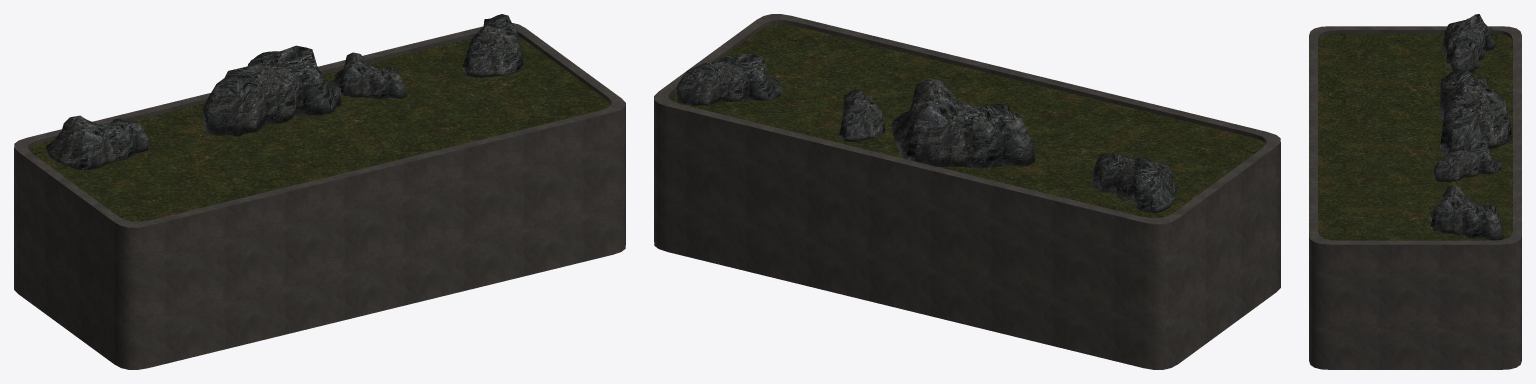
Rendered from Tank Field.FBX.
The picture shows the model from 3 angles, left to right: view 1: azimuth 30°, elevation 25°; view 2: azimuth 150°, elevation 25°; view 3: azimuth 270°, elevation 25°; orthographic projection. The views are drawn at different scales.
Parts seen in each view (by area): view 1: Object035, Object016, Mountain001, Mountain, Mountain003, Mountain002; view 2: Object035, Object016, Mountain001, Mountain003, Mountain, Mountain002; view 3: Object035, Object016, Mountain001, Mountain003, Mountain, Mountain002.
Part boxes in pixels (box(x1,y1,x2,y2)): Object035: box(14, 23, 625, 369); Object016: box(28, 36, 611, 221); Mountain001: box(202, 45, 341, 136); Mountain: box(46, 115, 148, 170); Mountain003: box(462, 14, 523, 77); Mountain002: box(334, 52, 406, 98); Object035: box(654, 14, 1280, 369); Object016: box(669, 24, 1265, 217); Mountain001: box(891, 79, 1035, 168); Mountain003: box(677, 53, 781, 106); Mountain: box(1091, 153, 1176, 213); Mountain002: box(839, 89, 885, 141); Object035: box(1309, 26, 1521, 369); Object016: box(1318, 33, 1512, 240); Mountain001: box(1438, 69, 1512, 153); Mountain003: box(1430, 185, 1503, 240); Mountain: box(1442, 14, 1495, 72); Mountain002: box(1433, 142, 1501, 182).
Size of the model in its own units: 432 by 178 by 163.
3 materials, 3 textured.
